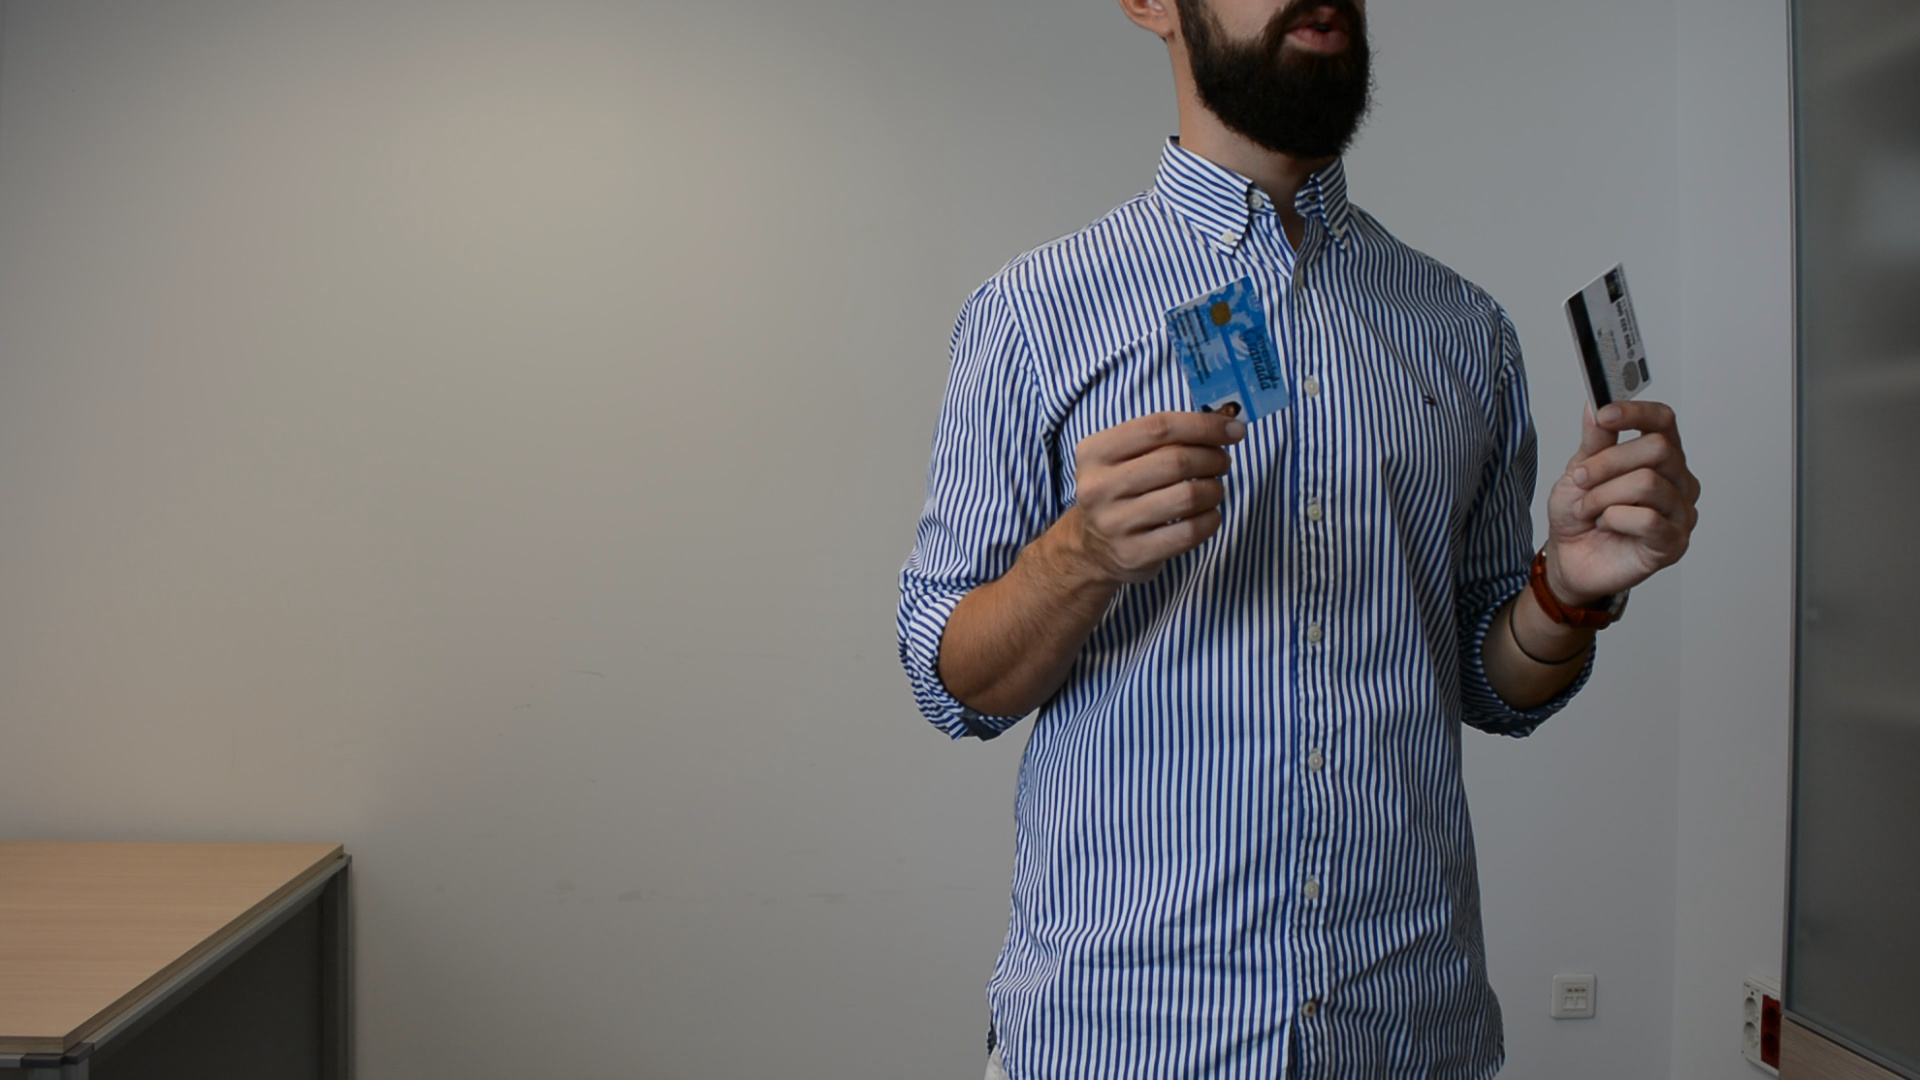tarjeta: (1158, 272, 1294, 429), (1557, 258, 1658, 430)
